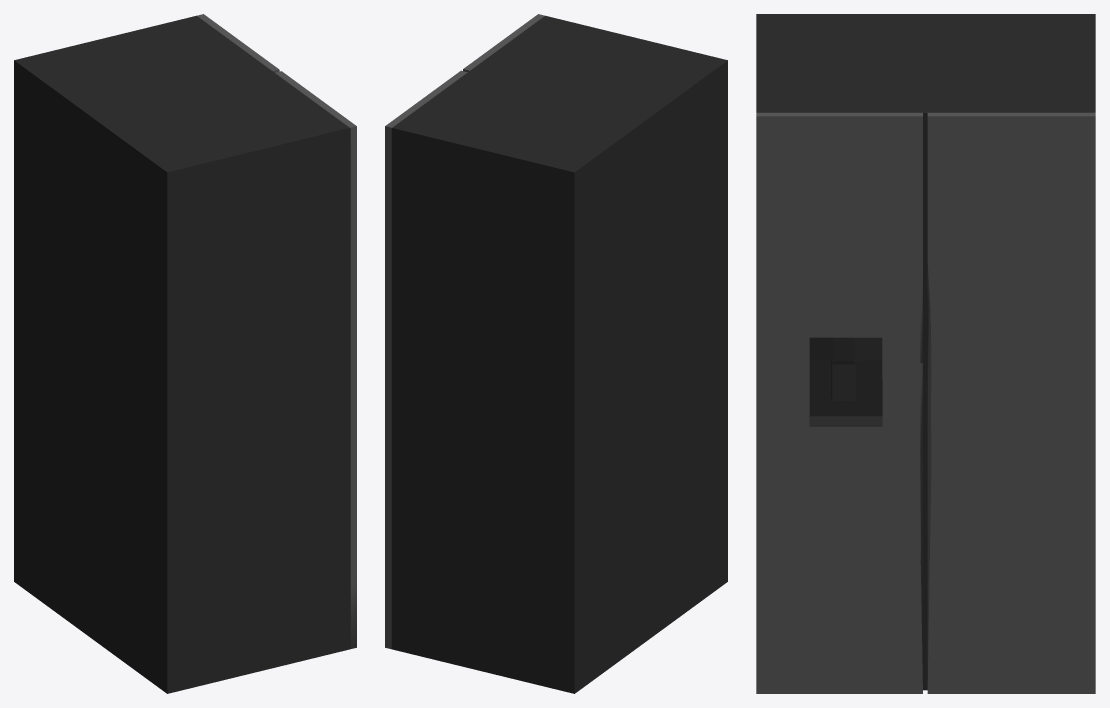
Rendered from fridge.fbx.
The picture shows the model from 3 angles, left to right: view 1: azimuth 30°, elevation 25°; view 2: azimuth 150°, elevation 25°; view 3: azimuth 270°, elevation 25°; orthographic projection. The views are drawn at different scales.
Parts seen in each view (by area): view 1: Refridgerator; view 2: Refridgerator; view 3: Refridgerator.
Part boxes in pixels (box(x1,y1,x2,y2)): Refridgerator: box(14, 14, 356, 693); Refridgerator: box(385, 14, 727, 693); Refridgerator: box(756, 14, 1095, 693).
Size of the model in its own units: 183 by 481 by 256.
Materials: 1 (1 with a texture image).
